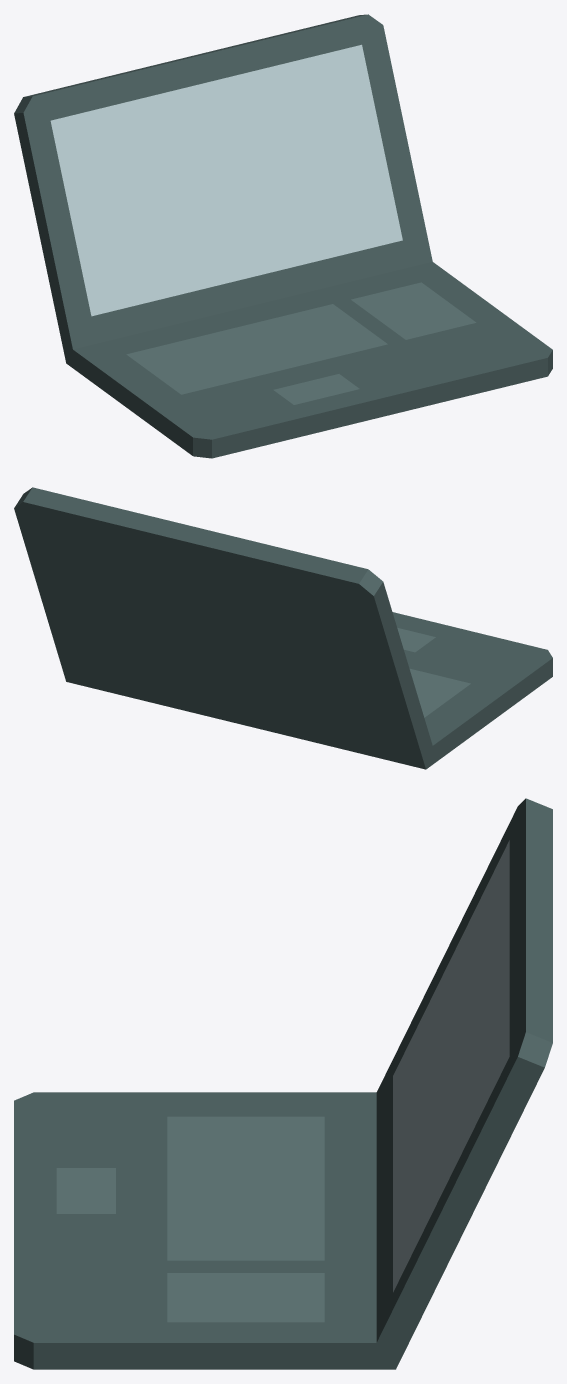
Rendered from Laptop.glb.
3 renders of one model, top to bottom at view 1: azimuth 30°, elevation 25°; view 2: azimuth 150°, elevation 25°; view 3: azimuth 270°, elevation 25°, orthographic. The views are drawn at different scales.
Parts seen in each view (by area): view 1: laptop(Clone); view 2: laptop(Clone); view 3: laptop(Clone).
Boxes of the visible parts, x1=… form: laptop(Clone): x1=14, y1=14, x2=552, y2=458; laptop(Clone): x1=14, y1=487, x2=552, y2=769; laptop(Clone): x1=14, y1=798, x2=552, y2=1369.
Bounding box in the file's own units: 0.264 × 0.1618 × 0.2401.
